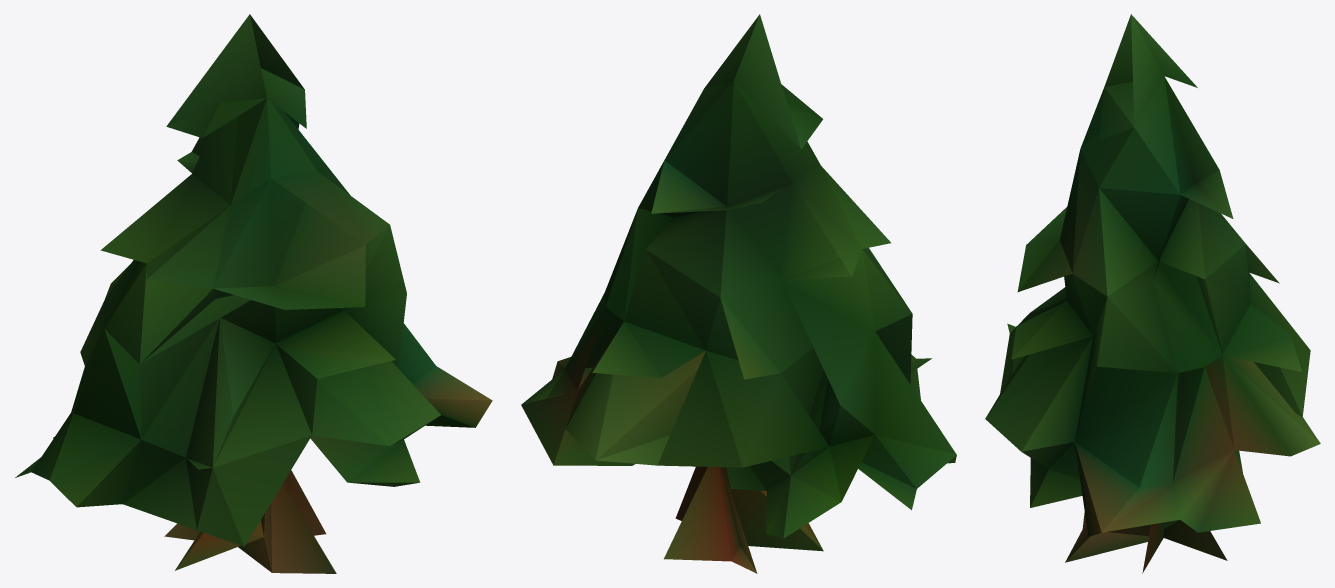
The model's file is tree-fir-wide.glb.
3 views of the same model, side by side, from view 1: azimuth 30°, elevation 25°; view 2: azimuth 150°, elevation 25°; view 3: azimuth 270°, elevation 25° (orthographic). The views are drawn at different scales.
Parts seen in each view (by area): view 1: tree-fir-wide-far; view 2: tree-fir-wide-far; view 3: tree-fir-wide-far.
Part boxes in pixels (x1=…): tree-fir-wide-far: x1=15, y1=14, x2=492, y2=573; tree-fir-wide-far: x1=521, y1=14, x2=956, y2=573; tree-fir-wide-far: x1=985, y1=14, x2=1320, y2=573.
Bounding box in the file's own units: 11.47 × 13.93 × 8.08.
